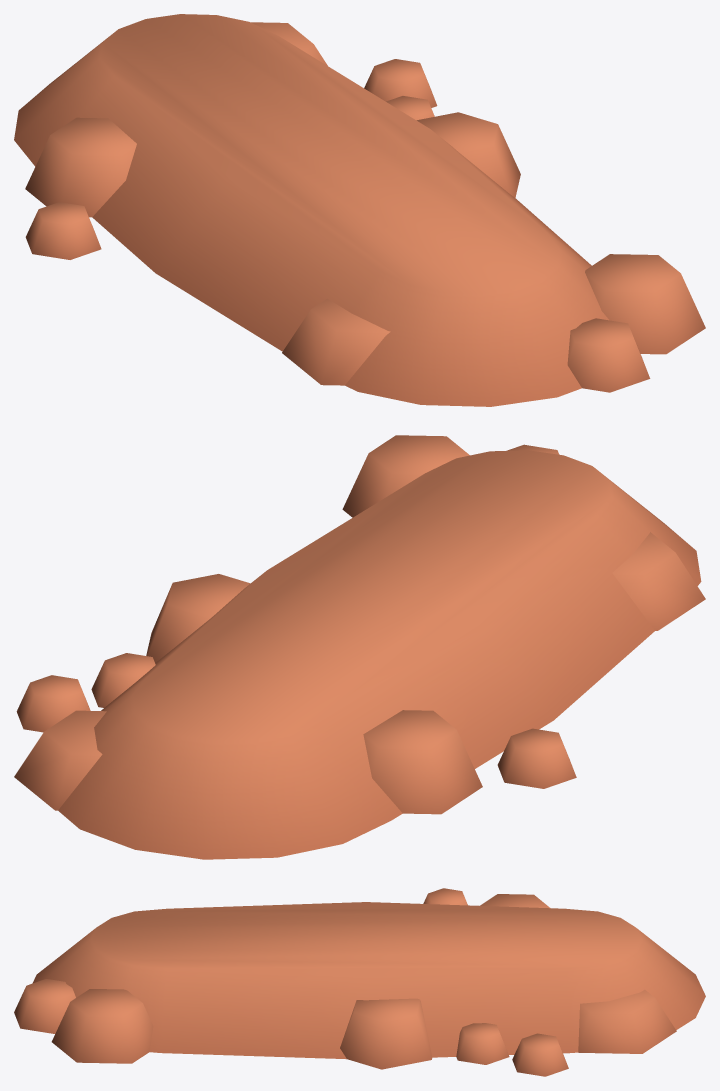
The model's file is grave_lev2.glb.
The picture shows the model from 3 angles, top to bottom: view 1: azimuth 30°, elevation 25°; view 2: azimuth 150°, elevation 25°; view 3: azimuth 270°, elevation 25°; orthographic projection. The views are drawn at different scales.
Parts seen in each view (by area): view 1: grave_lev2; view 2: grave_lev2; view 3: grave_lev2.
Part boxes in pixels (<box>): grave_lev2: <box>14,14,705,406</box>; grave_lev2: <box>14,435,705,859</box>; grave_lev2: <box>14,888,705,1076</box>.
Bounding box in the file's own units: 0.7238 × 0.114 × 1.24.
1 material, 1 textured.
